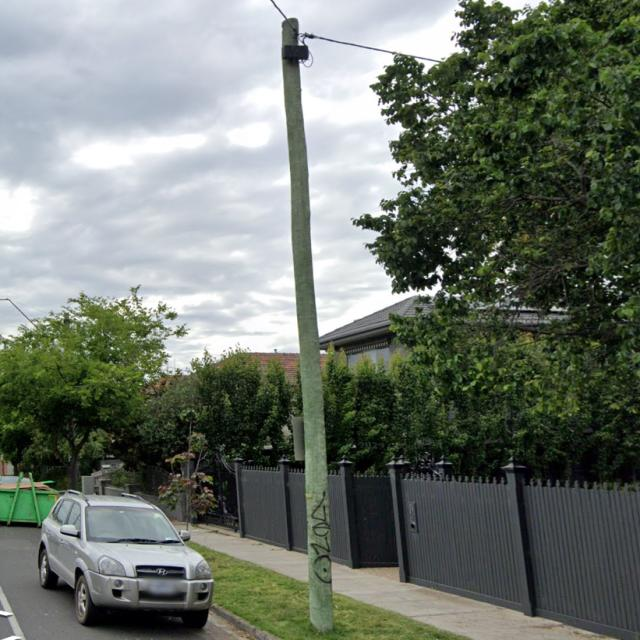timber-pole: (281, 16, 336, 633)
